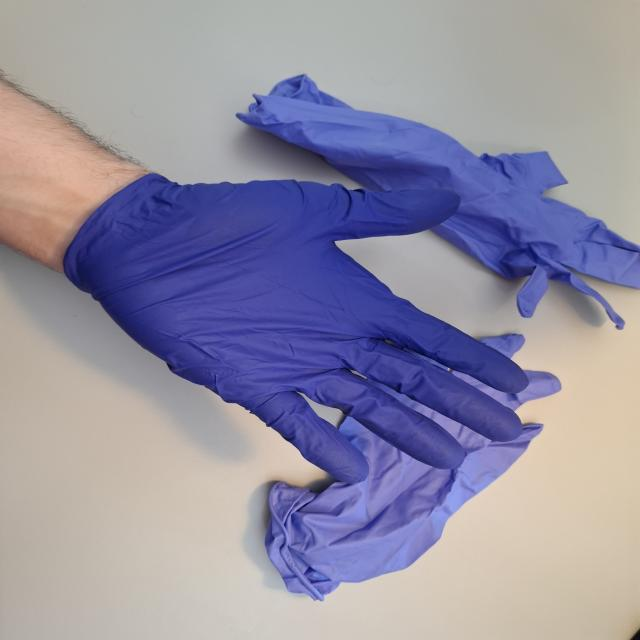glove_on: (59, 174, 532, 486)
